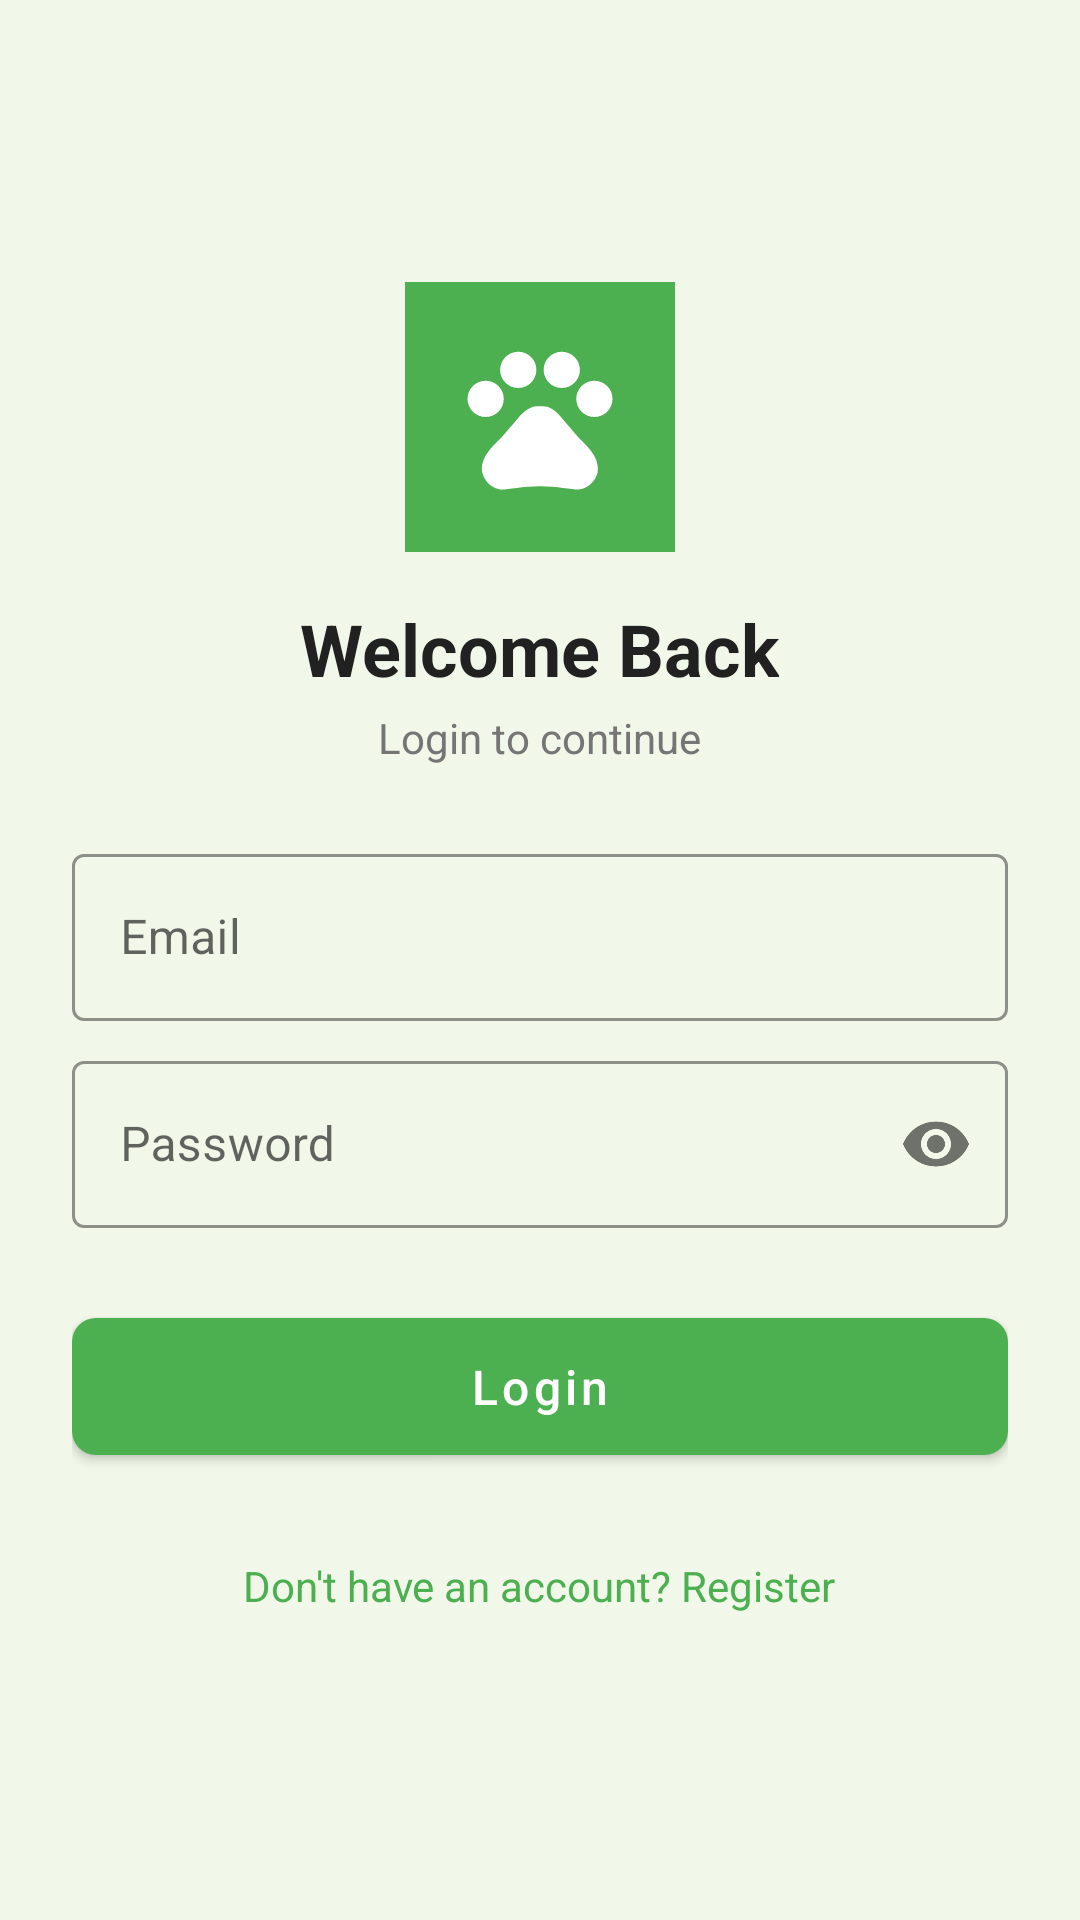

Screen size 1080 x 1920. Icon name, then its box in pixels as (x1, y1, x2, y2):
pet: (405, 282, 675, 552)
